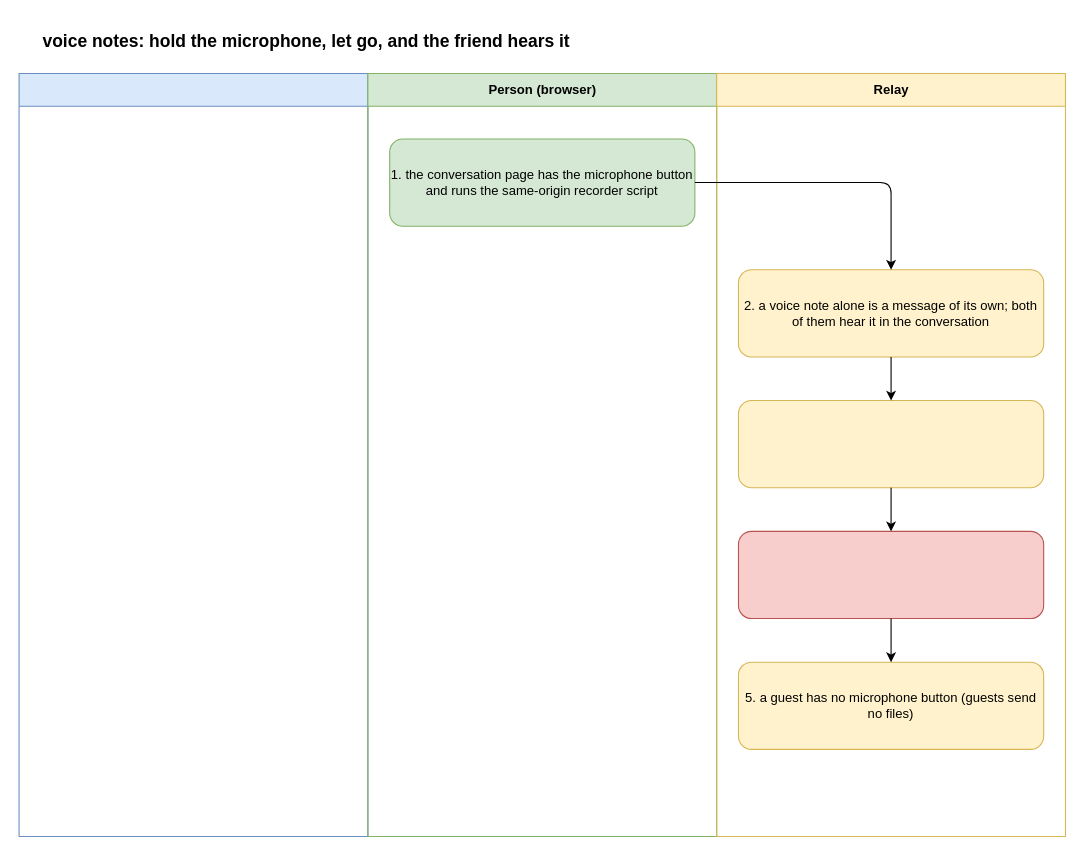
Some shapes in this 1085 by 856 pixel diagram are drawn without their labels. The shapes that lost their labels are listed below. From the top down, each one's centre as x and y in pixels, then its label:
At (193,454): "Agent (MCP client)".
At (890,443): "3. Safari’s recording (MP4, brand iso5) is taken as a voice note too".
At (890,574): "4. a file alone says so; nothing at all is still refused".
